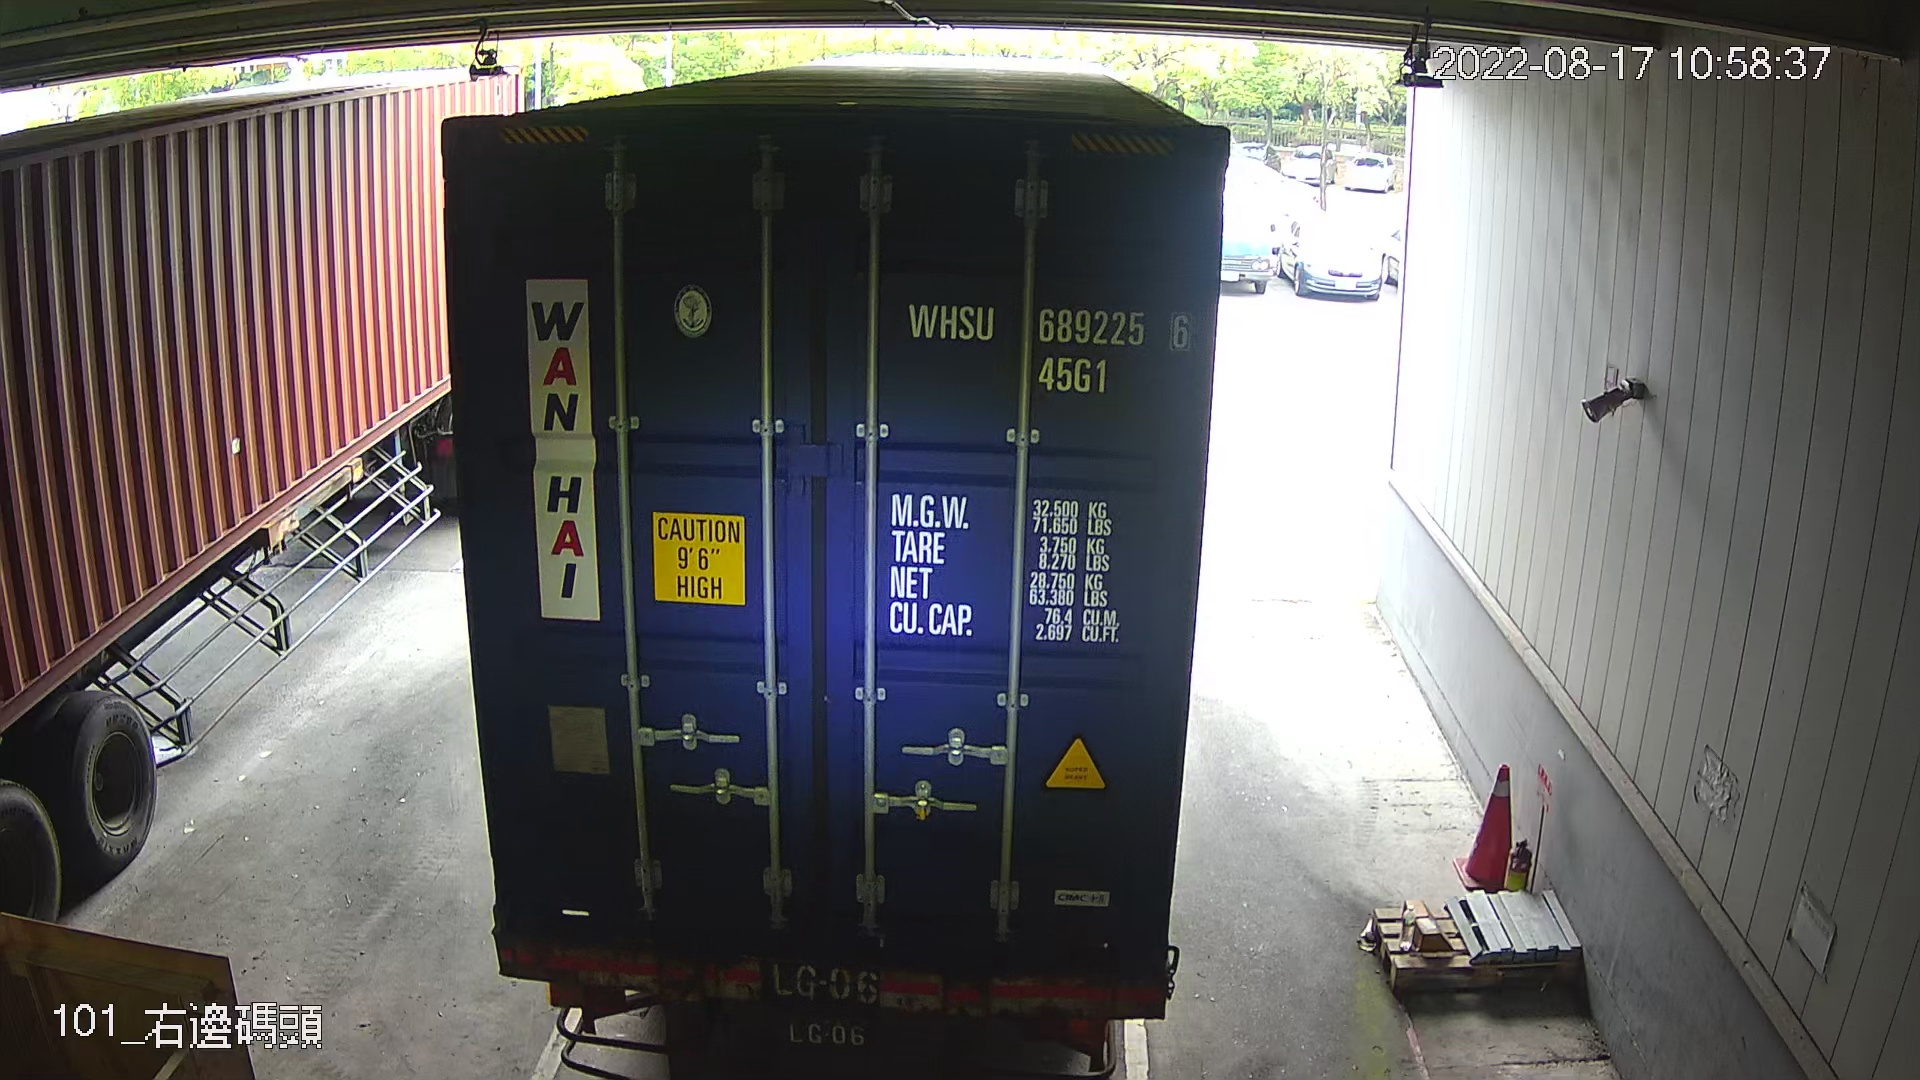container: (899, 289, 1203, 407)
